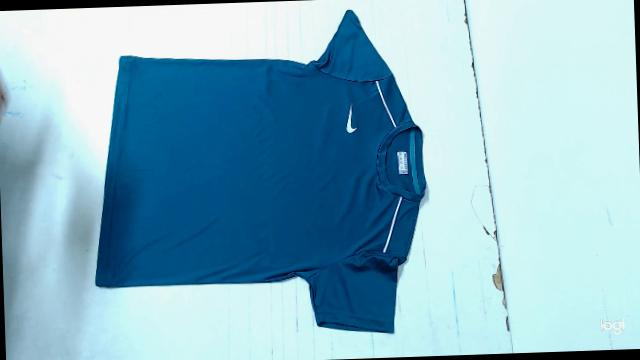new-garment: (95, 10, 426, 333)
